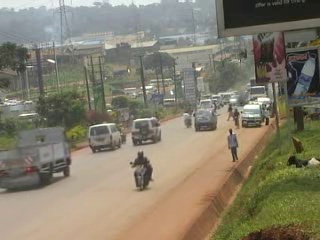Car: (130, 112, 162, 146), (227, 93, 239, 107)
Motorcycle: (128, 148, 156, 193), (180, 106, 193, 129)
